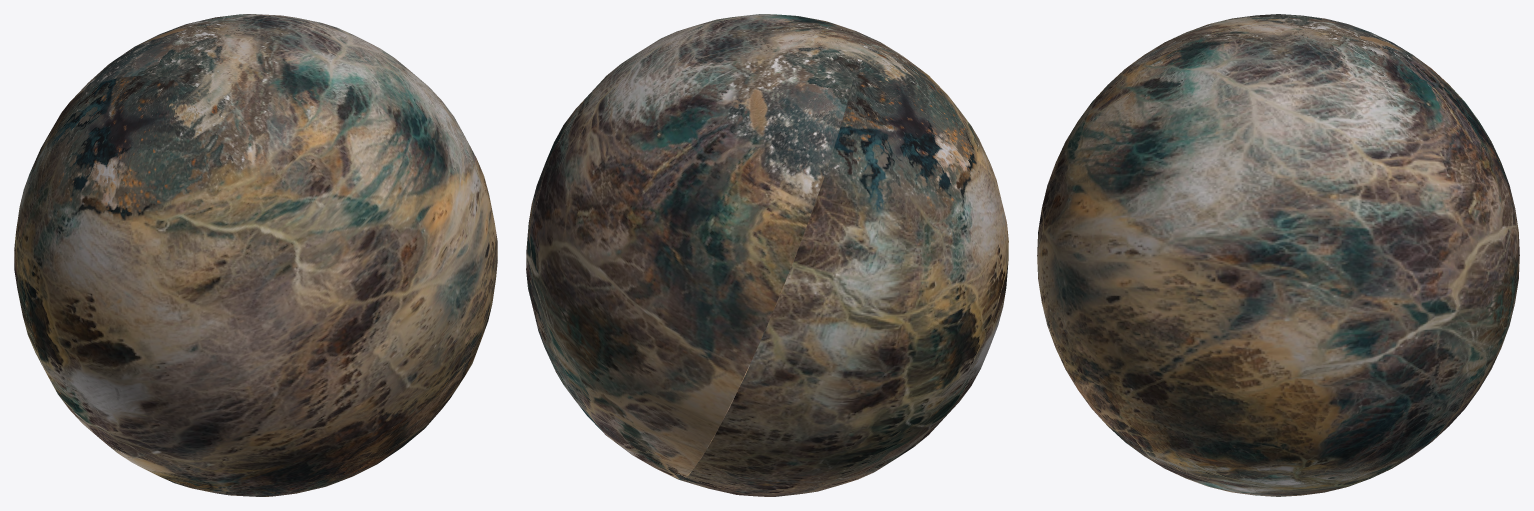
Rendered from planet.glb.
3 renders of one model, left to right at view 1: azimuth 30°, elevation 25°; view 2: azimuth 150°, elevation 25°; view 3: azimuth 270°, elevation 25°, orthographic.
Visible parts, largest first — view 1: Plane; view 2: Plane; view 3: Plane.
Boxes of the visible parts, <box> form: Plane: <box>14,14,497,496</box>; Plane: <box>526,14,1008,496</box>; Plane: <box>1037,14,1519,496</box>.
Size of the model in its own units: 5.44 by 5.44 by 5.44.
1 material, 1 textured.
